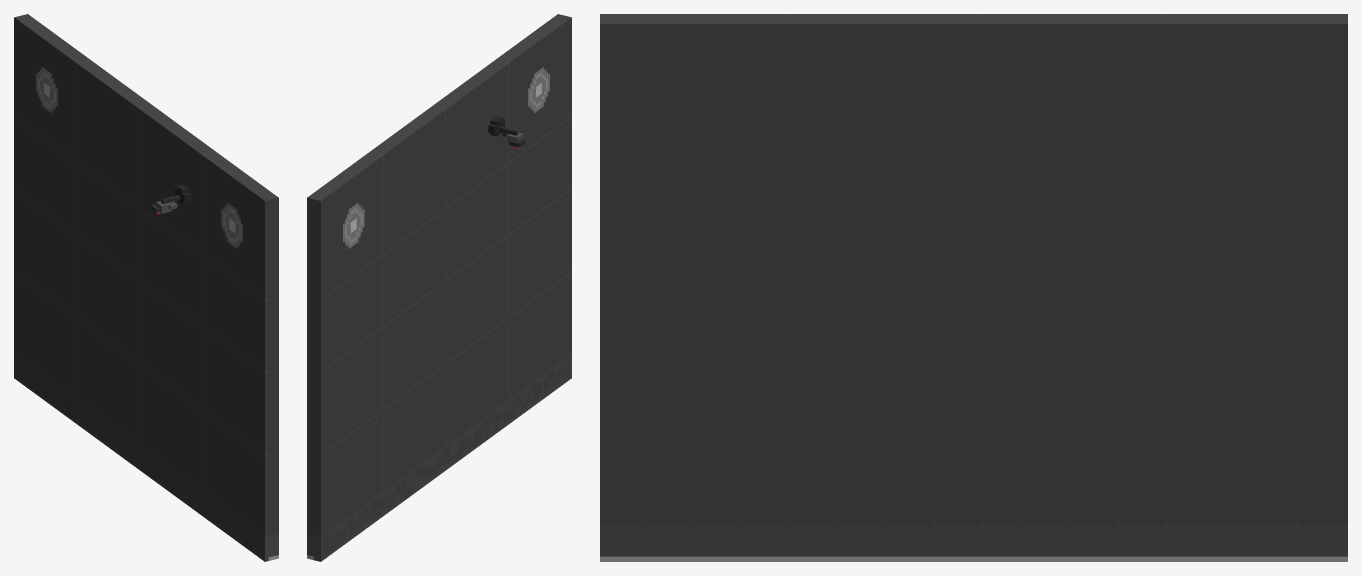
The model's file is wall01.obj.
3 renders of one model, left to right at view 1: azimuth 30°, elevation 25°; view 2: azimuth 150°, elevation 25°; view 3: azimuth 270°, elevation 25°, orthographic. The views are drawn at different scales.
Bounding box in the file's own units: 1.3 × 10 × 12.6.
Materials: 1 (1 with a texture image).
